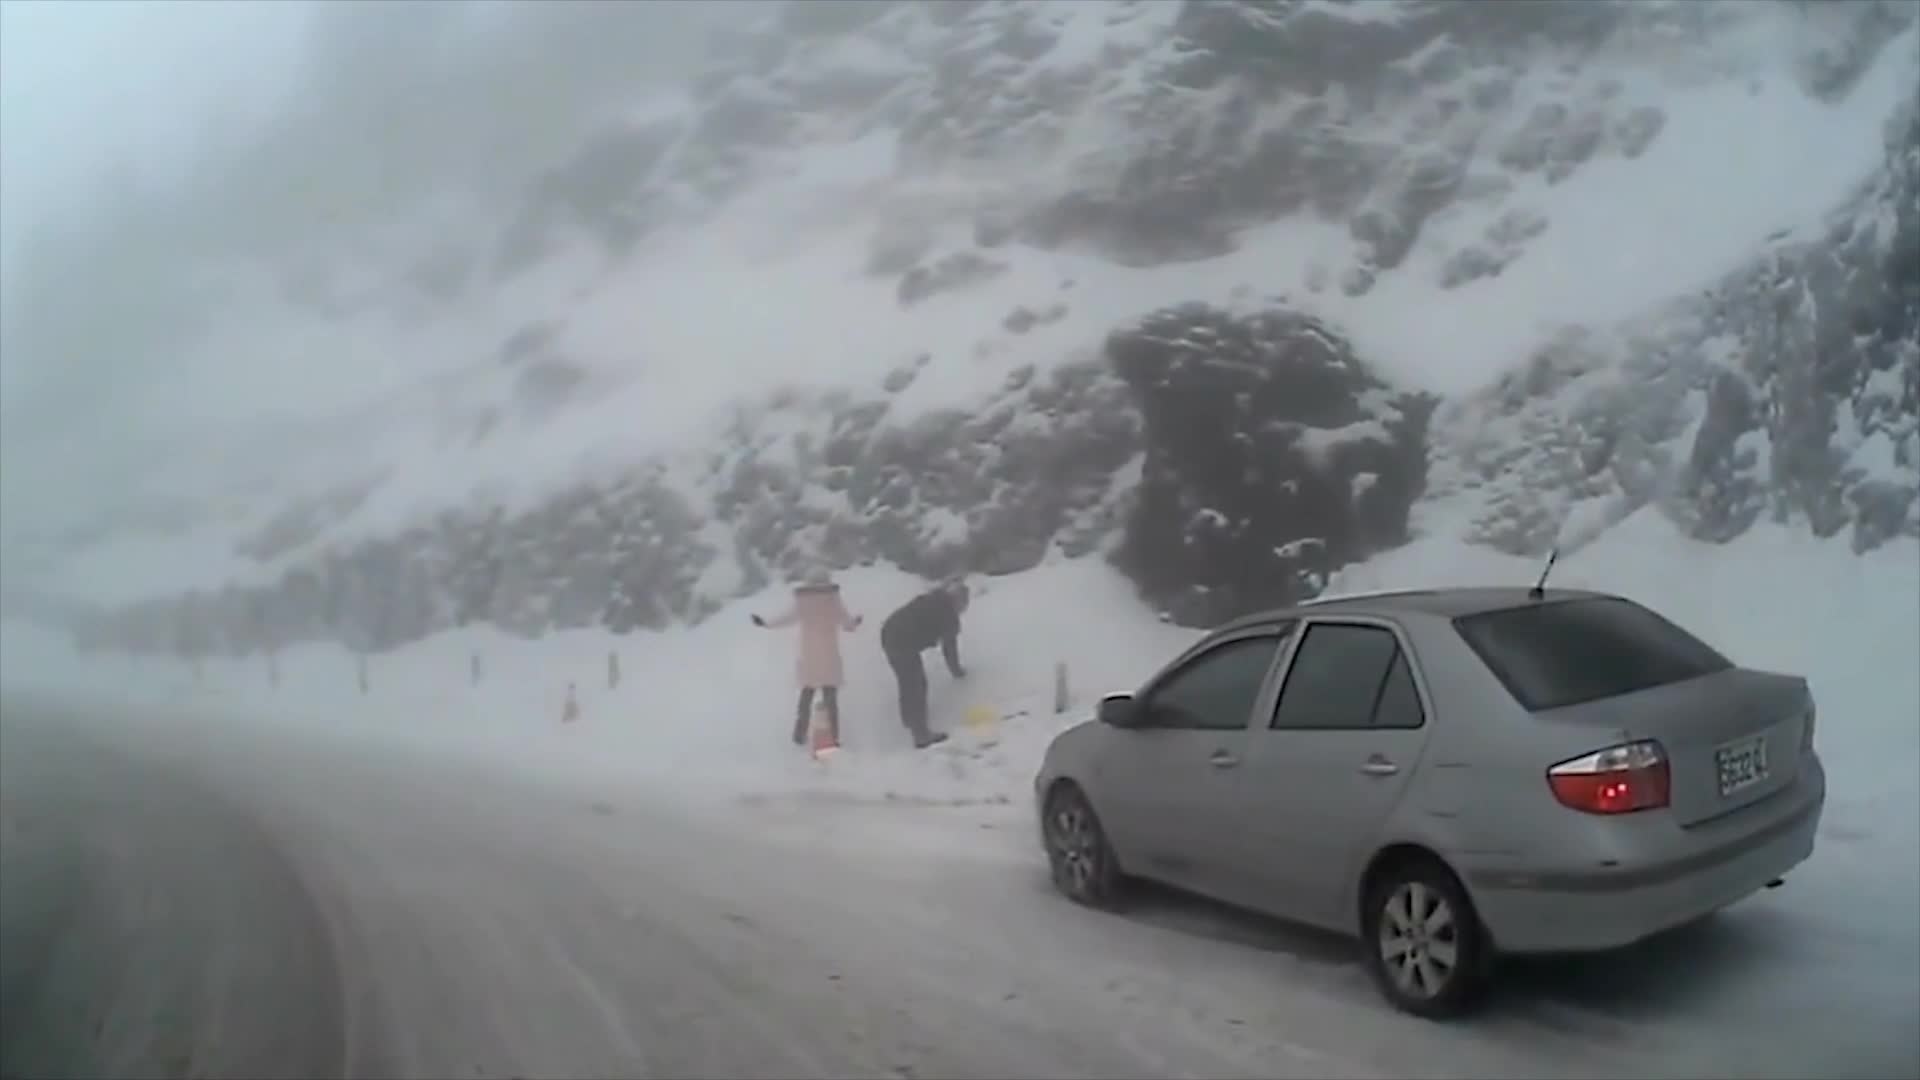pedestrian: (757, 568, 869, 753), (884, 585, 974, 749)
vehicle: (1034, 584, 1827, 1021)
